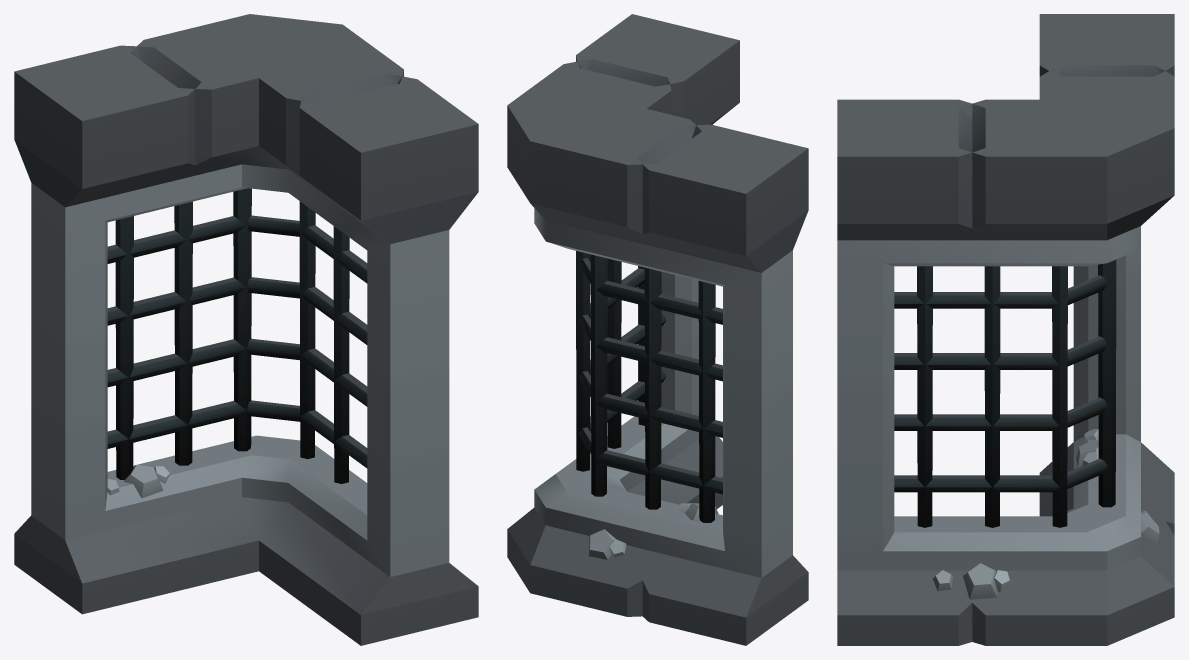
The model's file is wall_corner_gated.glb.
The picture shows the model from 3 angles, left to right: view 1: azimuth 30°, elevation 25°; view 2: azimuth 150°, elevation 25°; view 3: azimuth 270°, elevation 25°; orthographic projection. The views are drawn at different scales.
Parts seen in each view (by area): view 1: wall_corner_gated; view 2: wall_corner_gated; view 3: wall_corner_gated.
Part boxes in pixels (bbox=[...]): wall_corner_gated: bbox=[14, 14, 478, 645]; wall_corner_gated: bbox=[507, 14, 808, 645]; wall_corner_gated: bbox=[837, 14, 1174, 645].
Size of the model in its own units: 2.5 by 4 by 2.5.
1 material, 1 textured.
